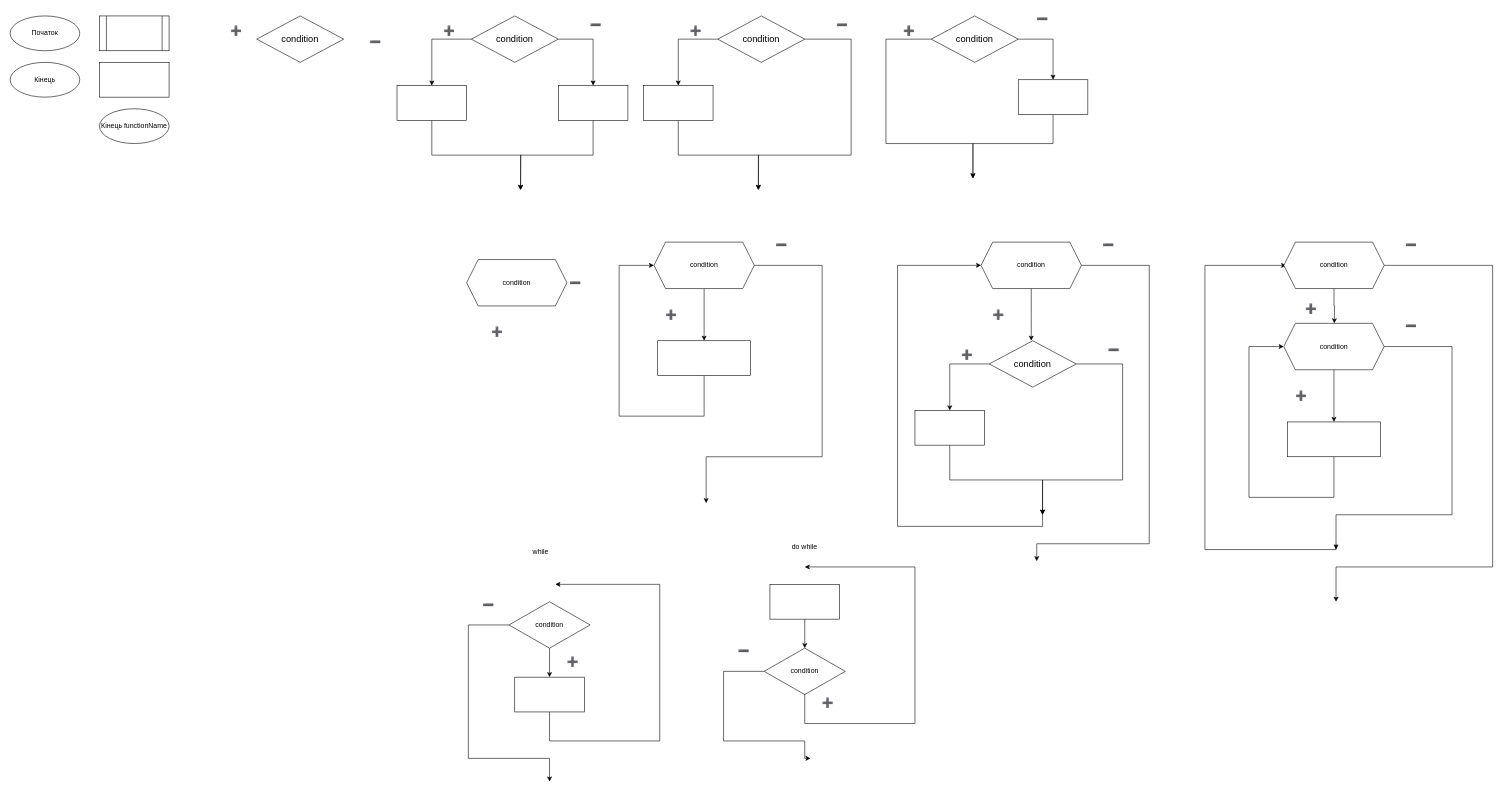
Some shapes in this 1507 by 796 pixel diagram are drawn without their labels. The box of each missing label's shape, as (x1, y1, x2, y2) in pixels:
functionName(): (99, 15, 169, 51)
return: (99, 62, 169, 97)
